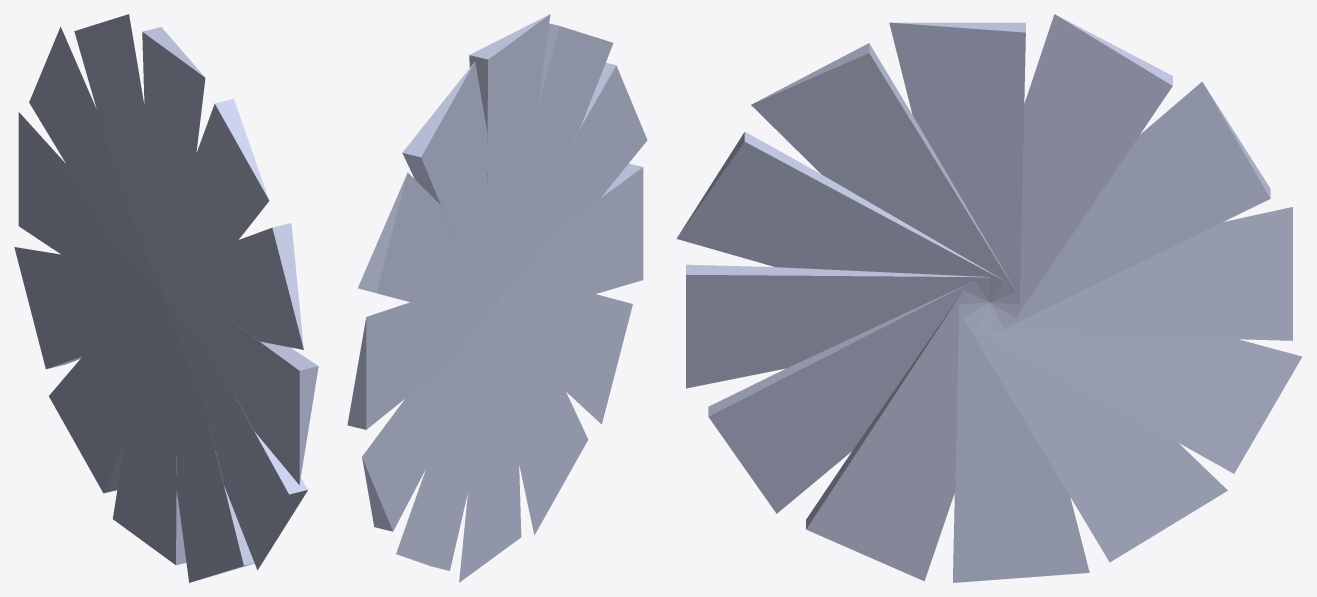
File: Back Decoration 1.FBX
3 renders of one model, left to right at view 1: azimuth 30°, elevation 25°; view 2: azimuth 150°, elevation 25°; view 3: azimuth 270°, elevation 25°, orthographic. The views are drawn at different scales.
Parts seen in each view (by area): view 1: CirPattern1; view 2: CirPattern1; view 3: CirPattern1.
Boxes of the visible parts, x1=… form: CirPattern1: x1=14, y1=14, x2=318, y2=582; CirPattern1: x1=347, y1=14, x2=647, y2=582; CirPattern1: x1=676, y1=14, x2=1302, y2=582.
Bounding box in the file's own units: 0.788 × 20.62 × 20.62.
